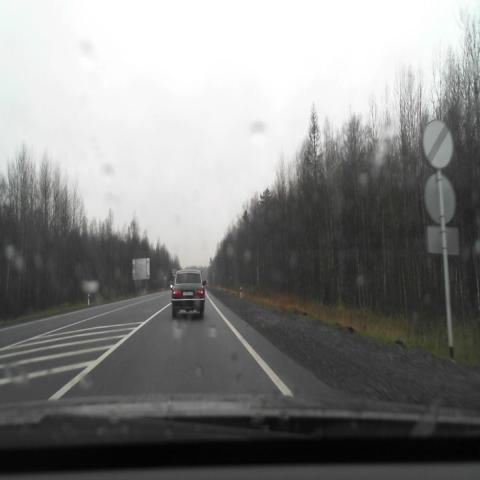3_31: (423, 120, 453, 168)
